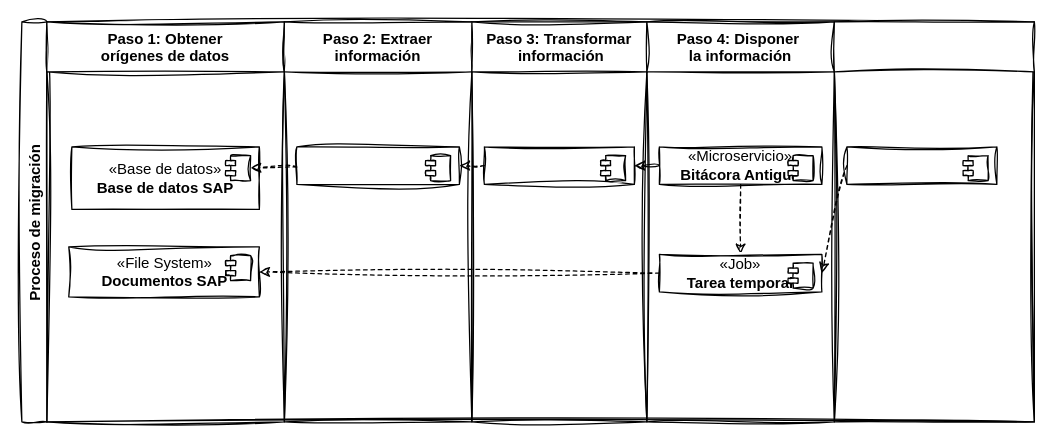
Some shapes in this 1056 by 444 pixel diagram are drawn without their labels. The box of each missing label's shape, as (x1, y1, x2, y2) in pixels:
Etapa 3: Crear Asistencia en sistema core: (833, 21, 1034, 422)
«Asissto Core» Bitacora: (846, 146, 997, 184)
«Asissto Core» Transformar datos: (483, 146, 634, 184)
«Microservicio» Extraer Datos: (296, 146, 459, 184)
